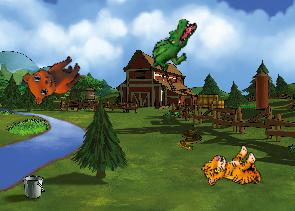bear: (17, 43, 87, 111)
crocodile: (147, 12, 198, 79)
tiger: (198, 138, 267, 203)
